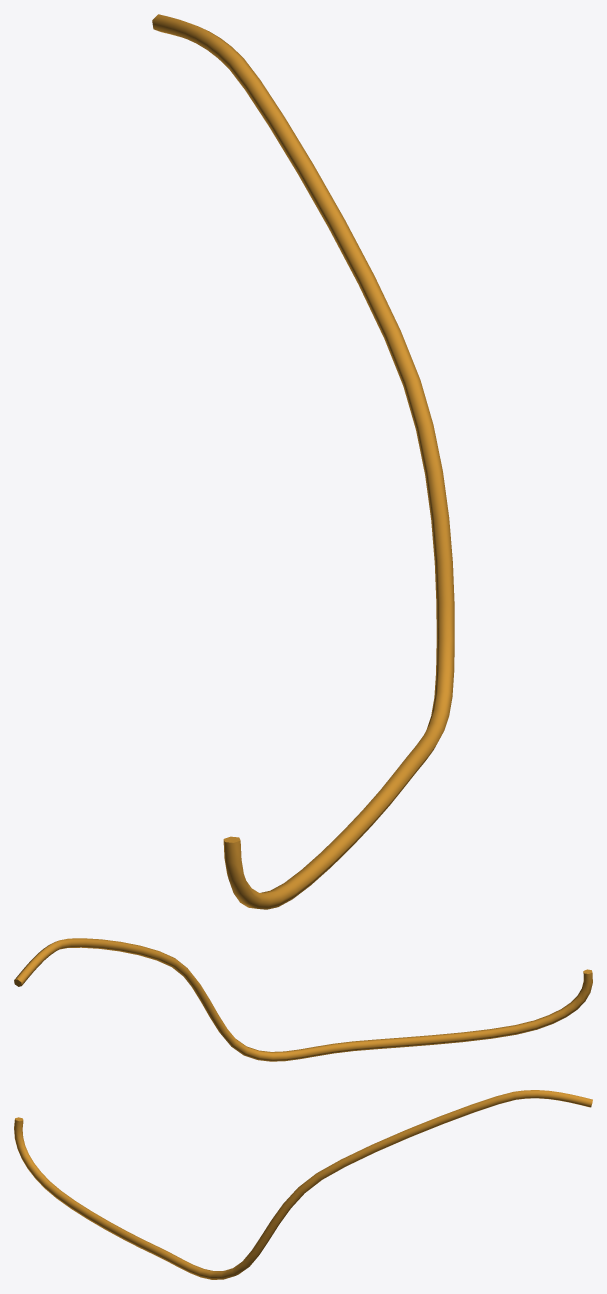
Rendered from SM_橡皮管_002.fbx.
3 views of the same model, one above another, from view 1: azimuth 30°, elevation 25°; view 2: azimuth 150°, elevation 25°; view 3: azimuth 270°, elevation 25° (orthographic). The views are drawn at different scales.
Visible parts, largest first — view 1: SM_橡皮管_002; view 2: SM_橡皮管_002; view 3: SM_橡皮管_002.
Boxes of the visible parts, x1,y1,x2,y2 form: SM_橡皮管_002: (152, 14, 454, 909); SM_橡皮管_002: (14, 938, 592, 1061); SM_橡皮管_002: (14, 1090, 592, 1279).
Size of the model in its own units: 0.3879 by 0.3091 by 0.7556.
